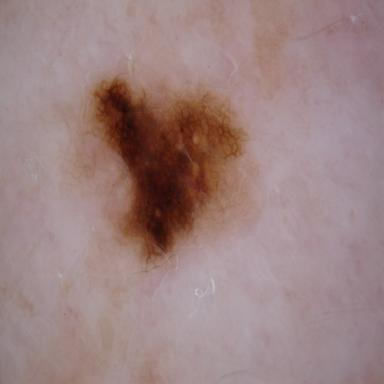nevus: (94, 78, 246, 260)
